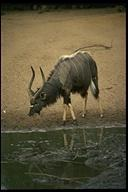antelope: (26, 49, 105, 127)
water: (2, 131, 125, 188)
